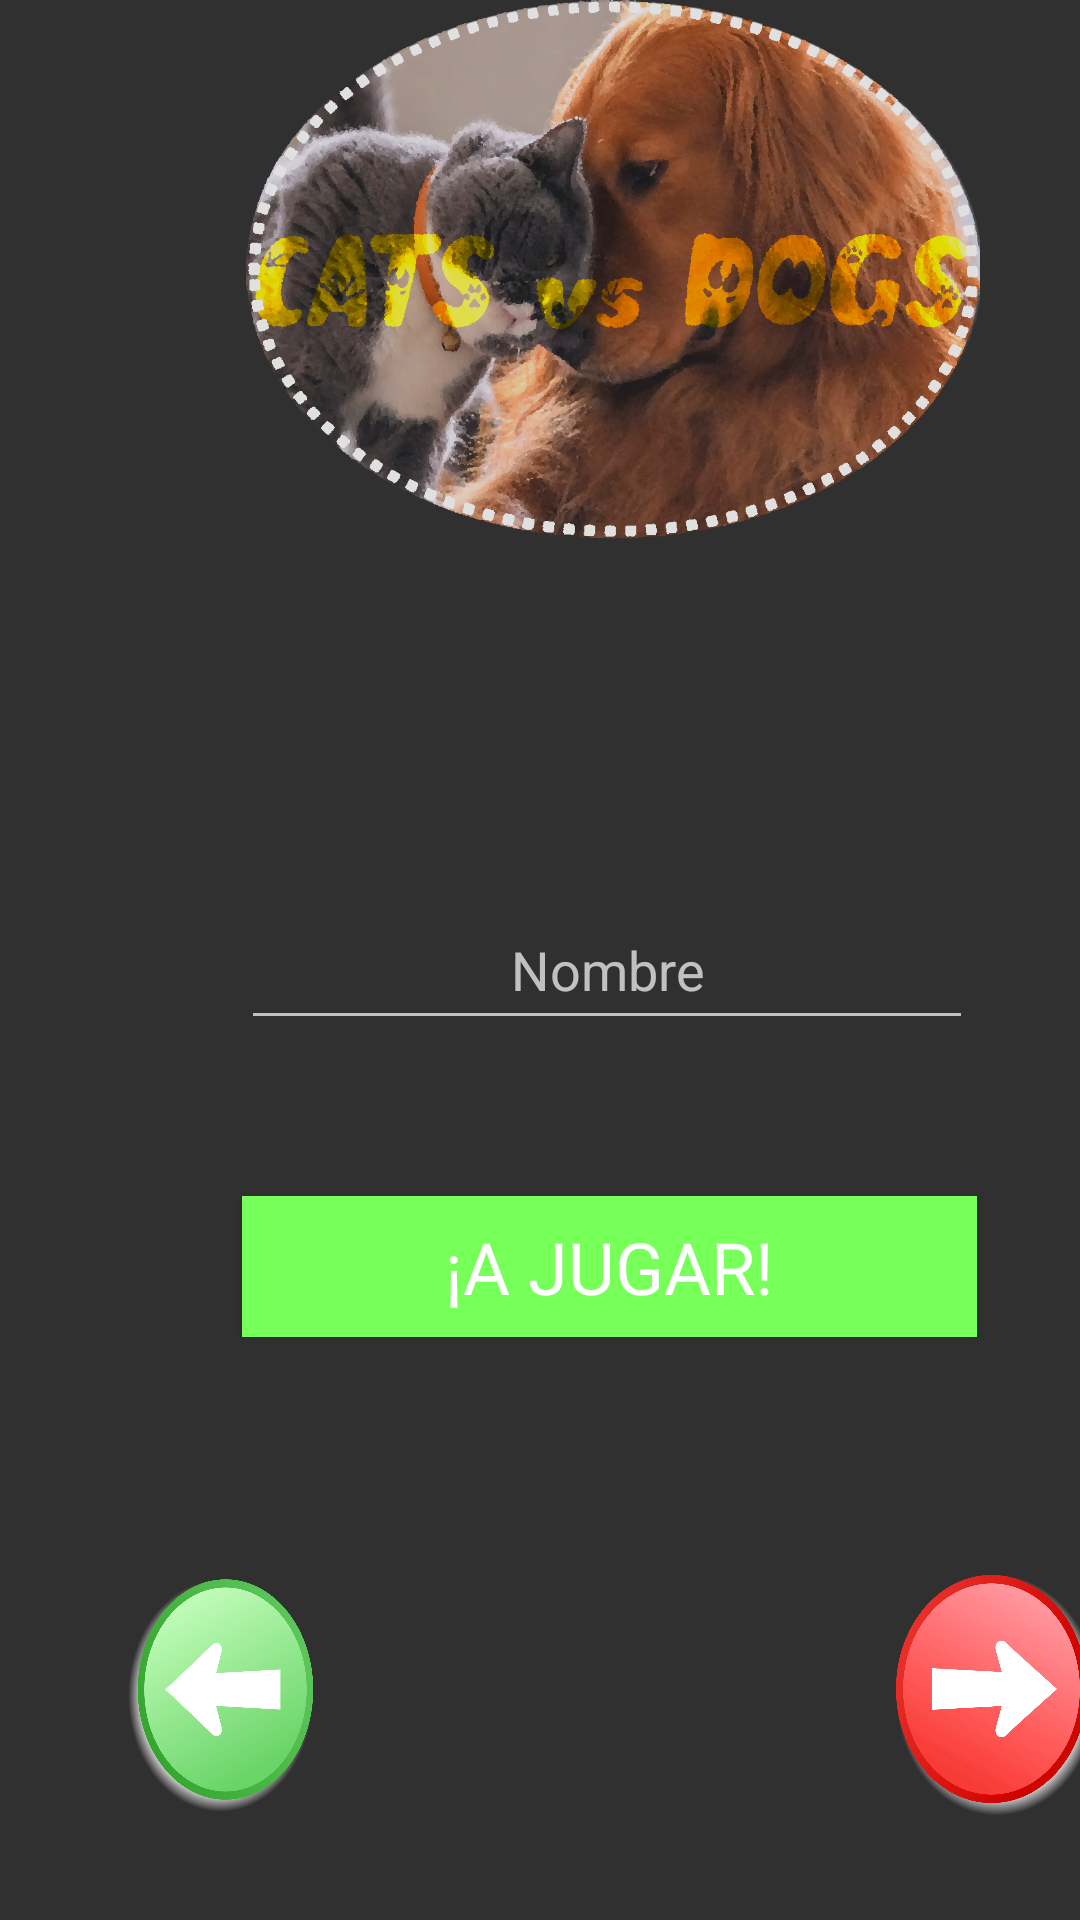

Named icons in this screenshot (1080px x 1920px) and their bounding boxes, (x1, y1, x2, y2):
higherdiff: (896, 1575, 1080, 1813)
lowerdiff: (130, 1579, 313, 1809)
